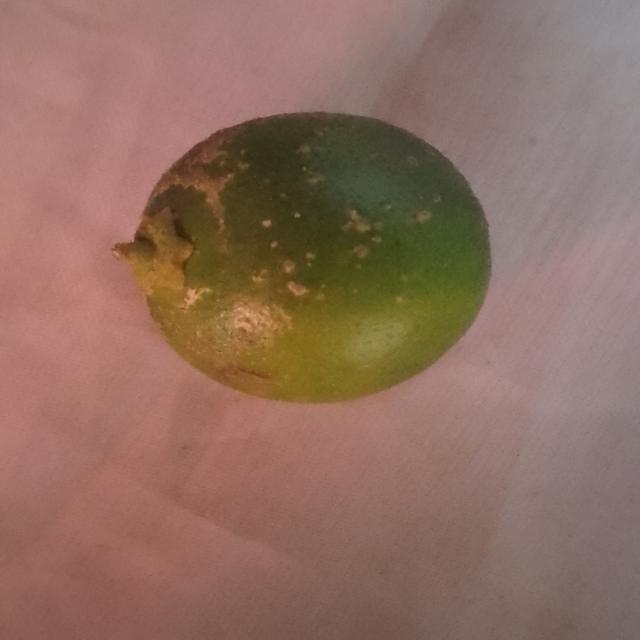scab: (121, 109, 503, 406)
